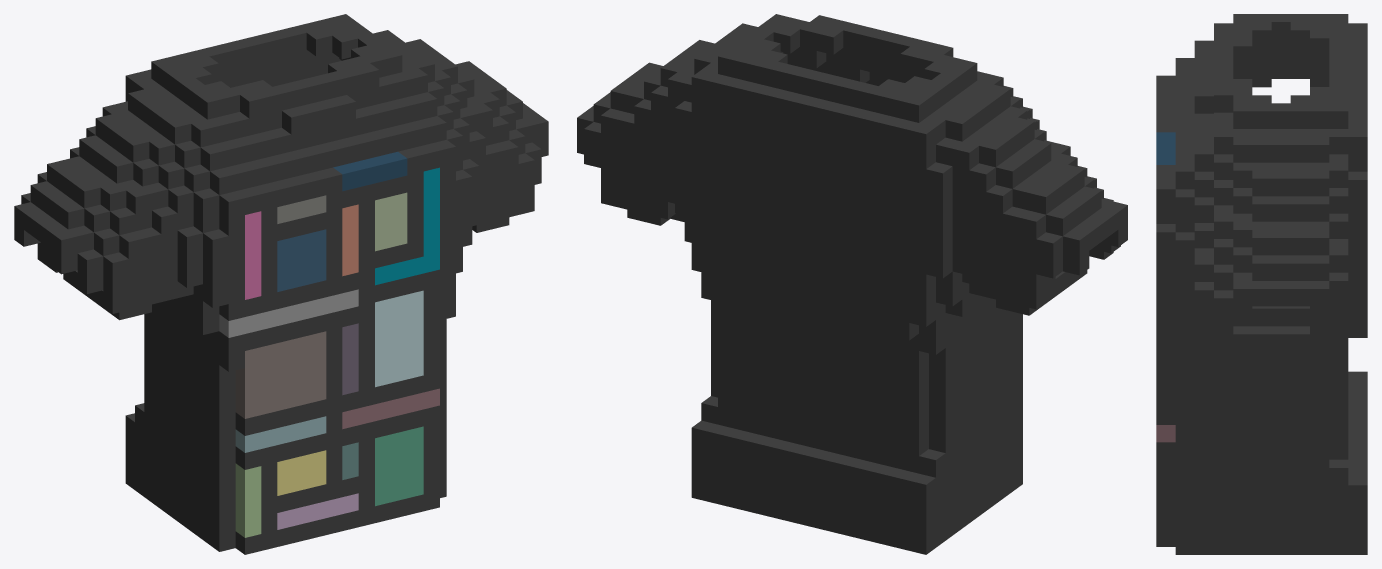
3 views of the same model, side by side, from view 1: azimuth 30°, elevation 25°; view 2: azimuth 150°, elevation 25°; view 3: azimuth 270°, elevation 25° (orthographic). The views are drawn at different scales.
Bounding box in the file's own units: 1.5 × 1.25 × 0.55.
